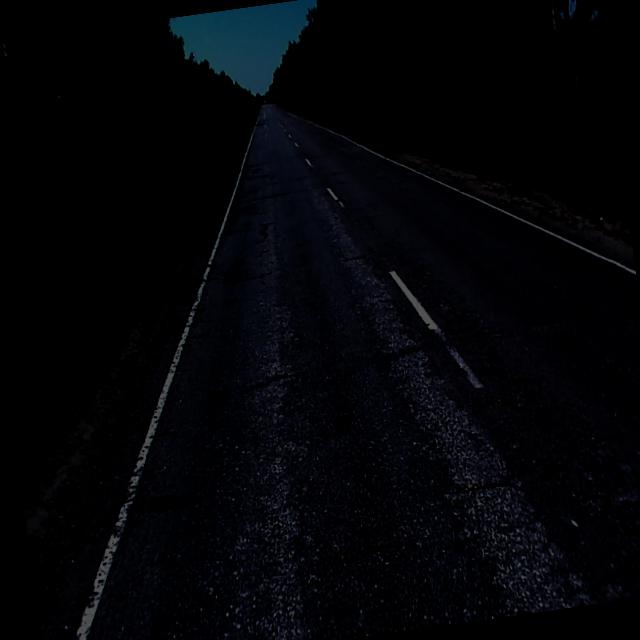road: (43, 106, 640, 640)
